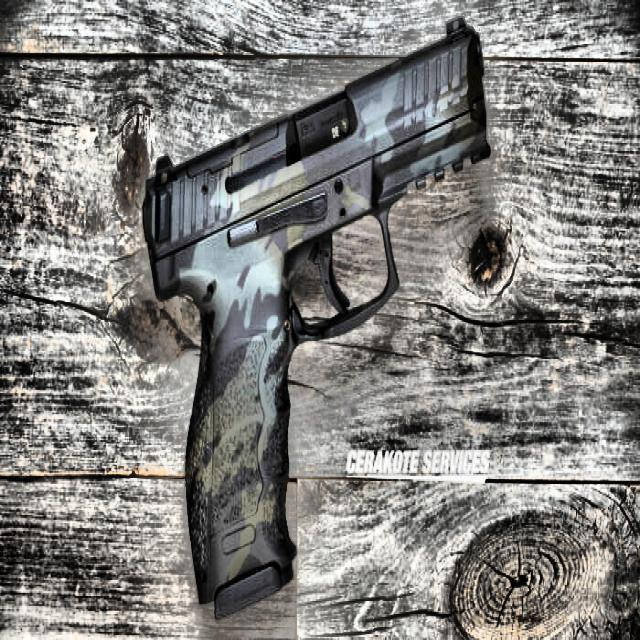HKVP9: (140, 14, 492, 620)
